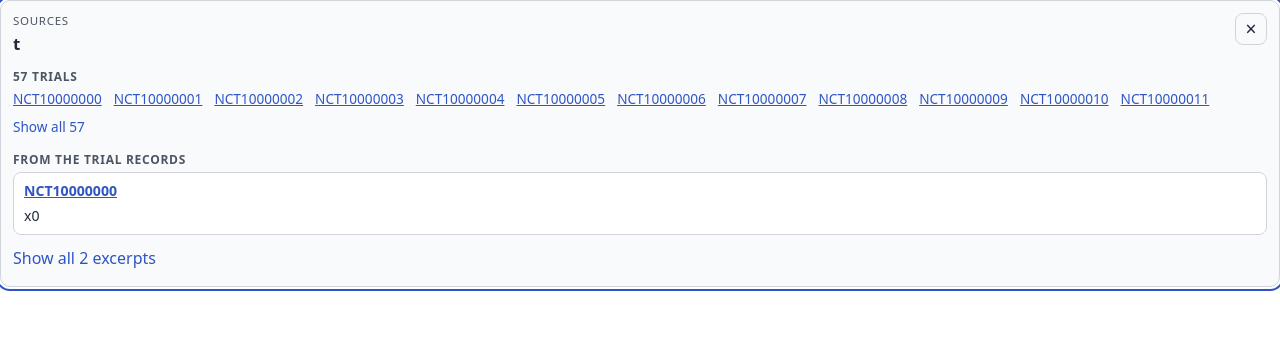
Scenario: citation panel: endpoint edge cases and interpolated values › marks excerpts the endpoint could not re-verify
Click the button "Show all 2 excerpts": (84, 259) [13,243,156,274]
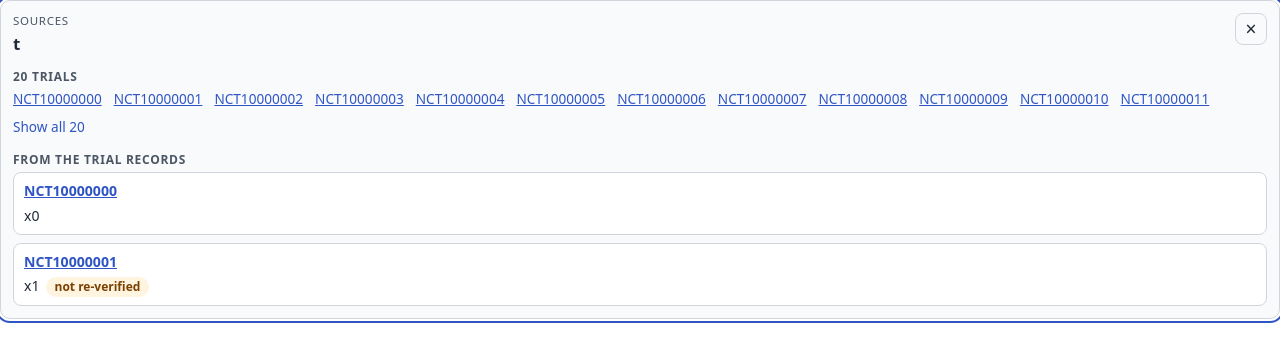
expect the text "x1" is shown: met, box [24,276,40,295]
expect the text "not re-verified" is shown once: met, box [46,277,149,297]
expect the text "x1" shows "not re-verified": met, box [54,278,140,295]
